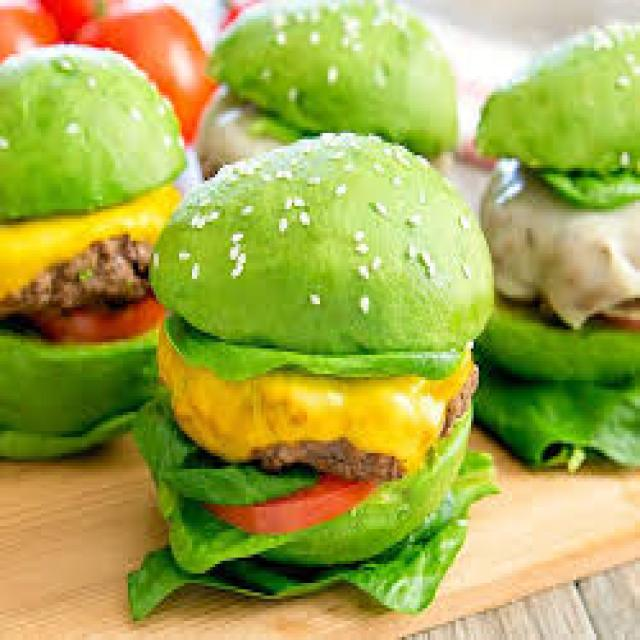Wet Waste: (181, 123, 469, 640), (485, 3, 640, 531), (0, 35, 159, 452)
